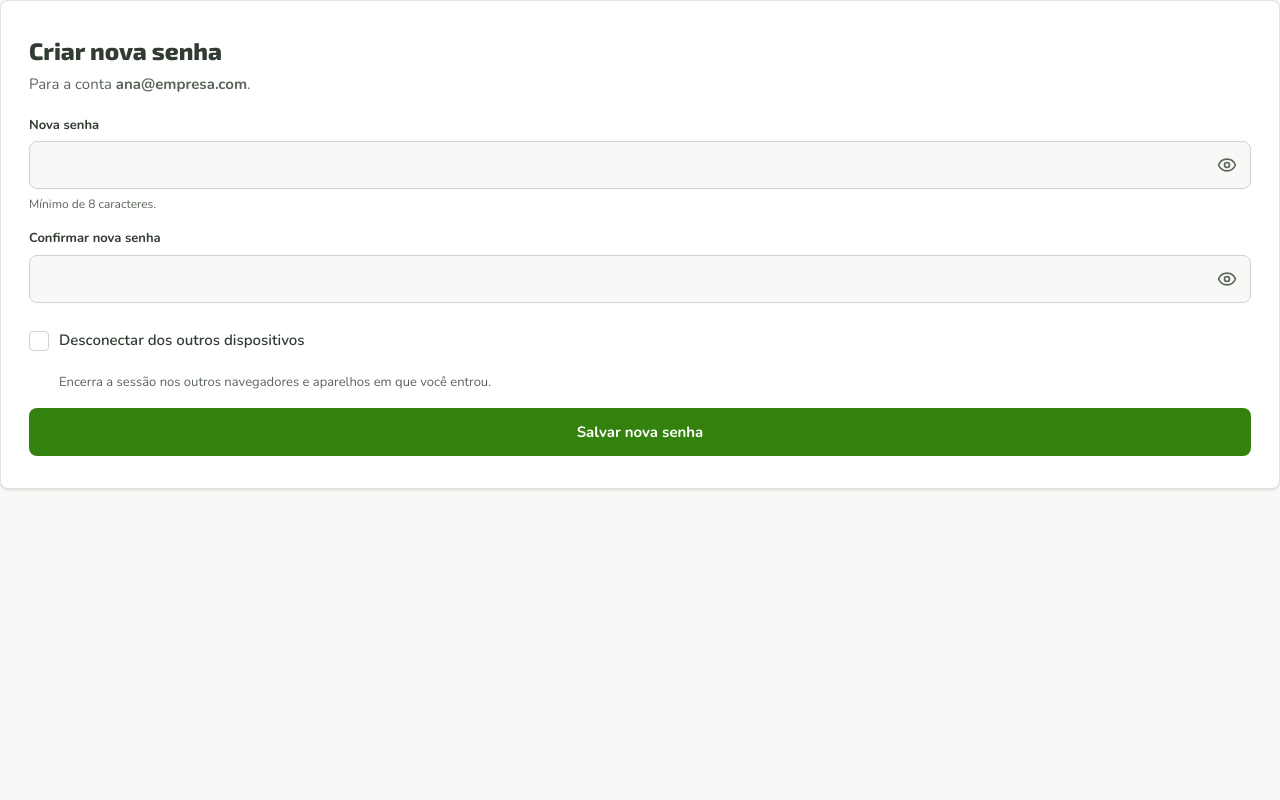
Test: ResetPasswordForm › shows the alert on 419 and keeps the typed data
In the password field labelled "Nova senha": (640, 165) [29,141,1251,189], type "new-secret-1"
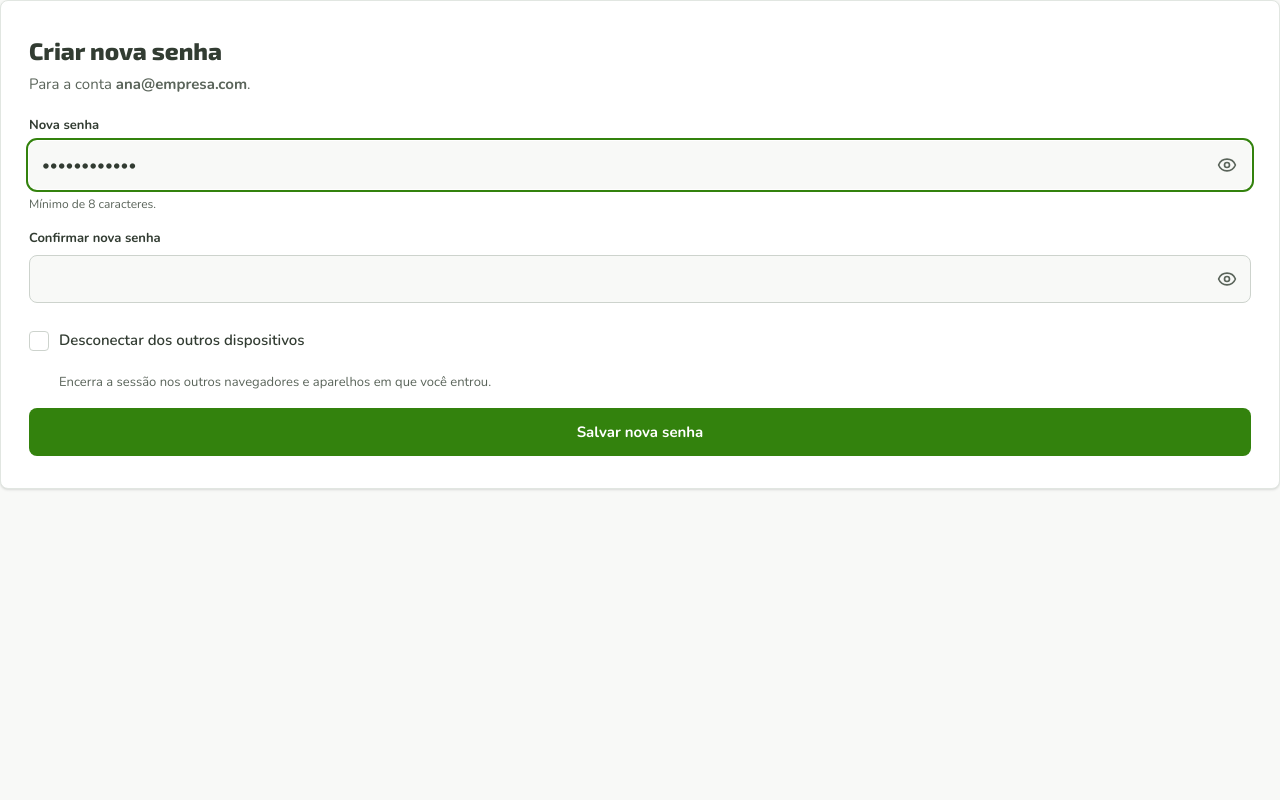
In the password field labelled "Confirmar nova senha": (640, 278) [29,254,1251,302], type "new-secret-1"
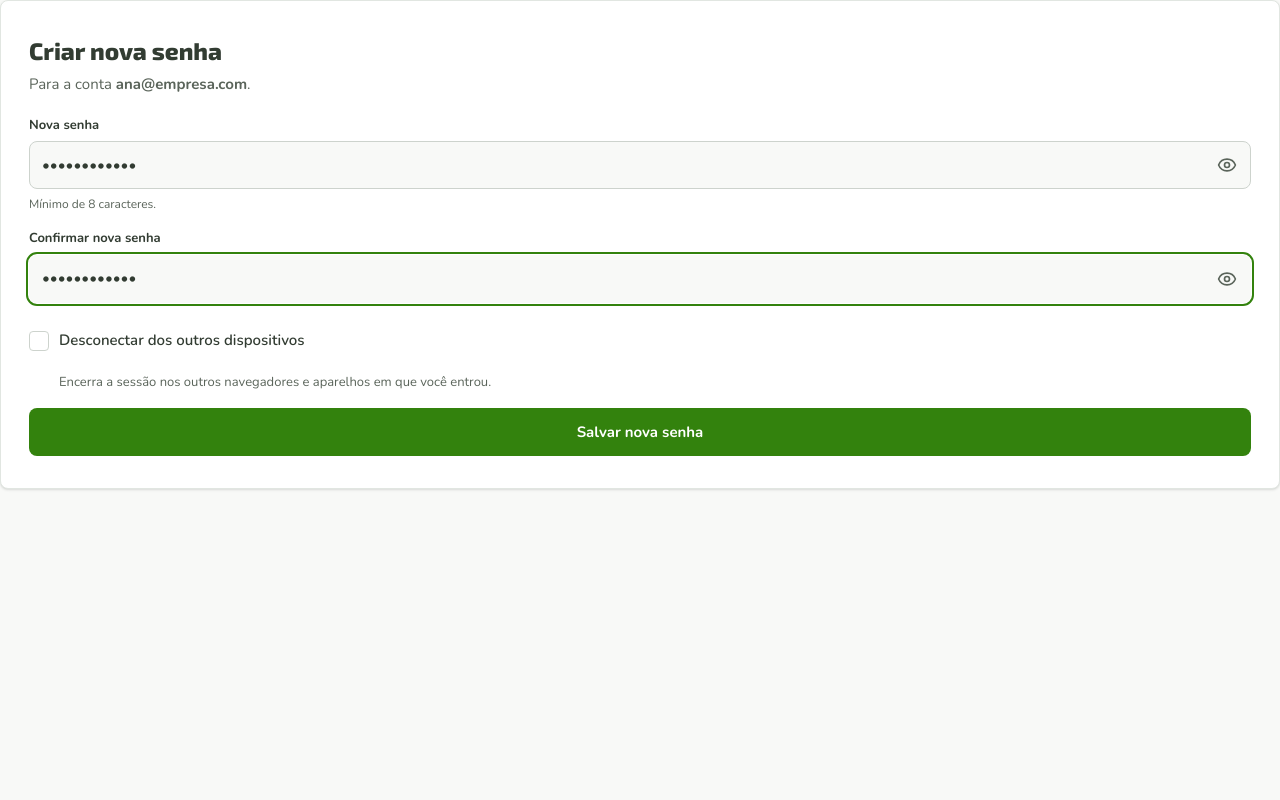
Click the button "Salvar nova senha": (640, 432) [29,408,1251,456]
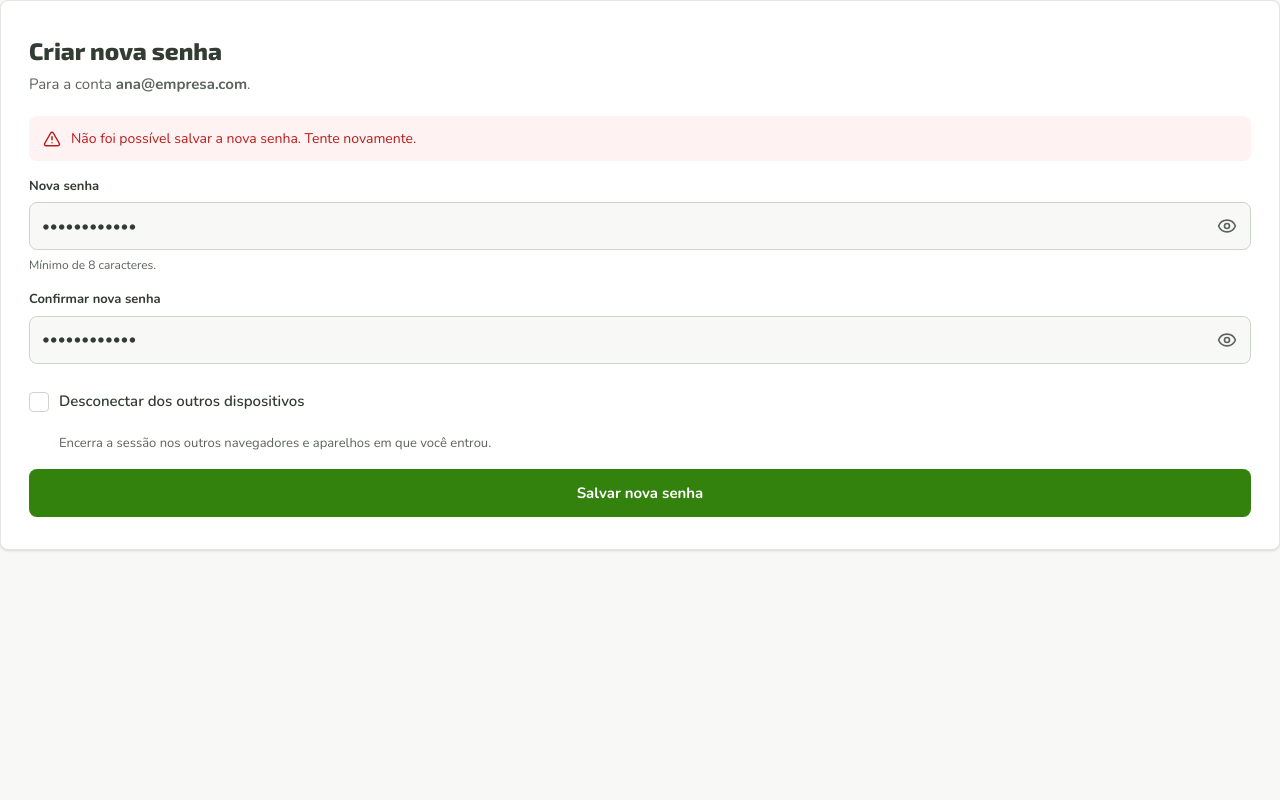
Check: the message reads "Não foi possível salvar a nova senha. Tente novamente.", box [71,128,416,148]
